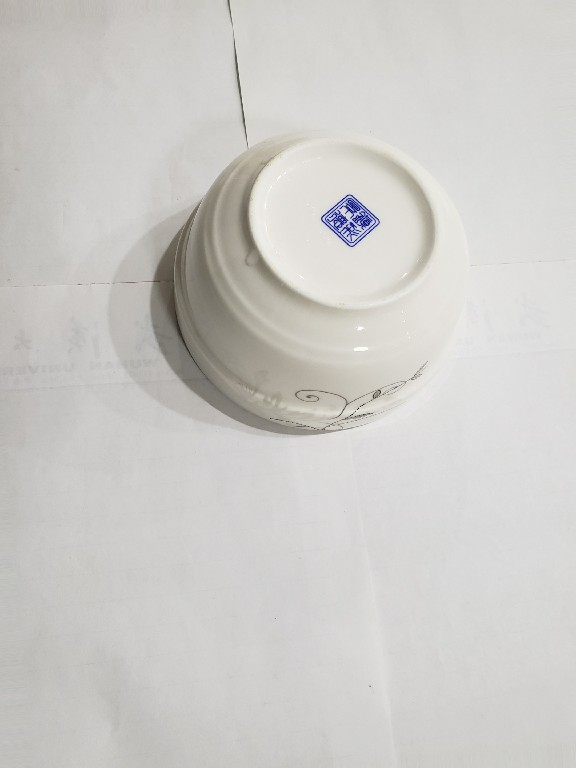ceramics: (160, 122, 476, 441)
